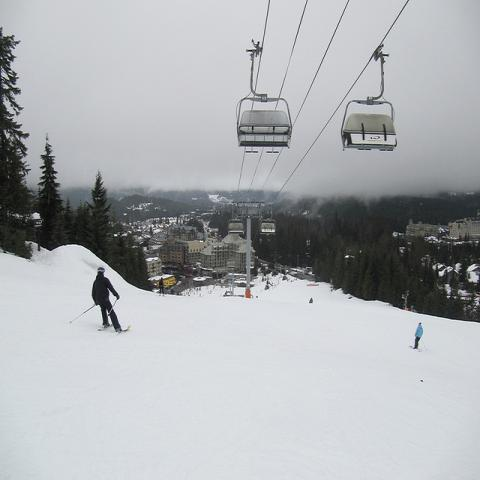car: (176, 281, 182, 286)
